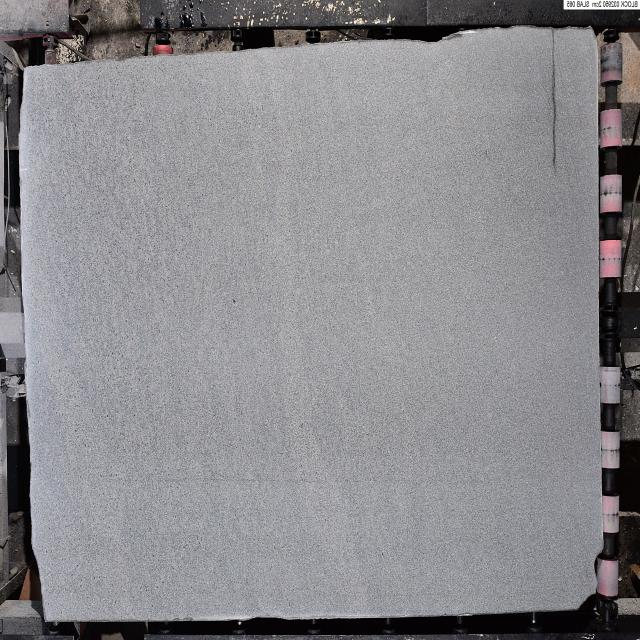chapa: (20, 28, 601, 621)
